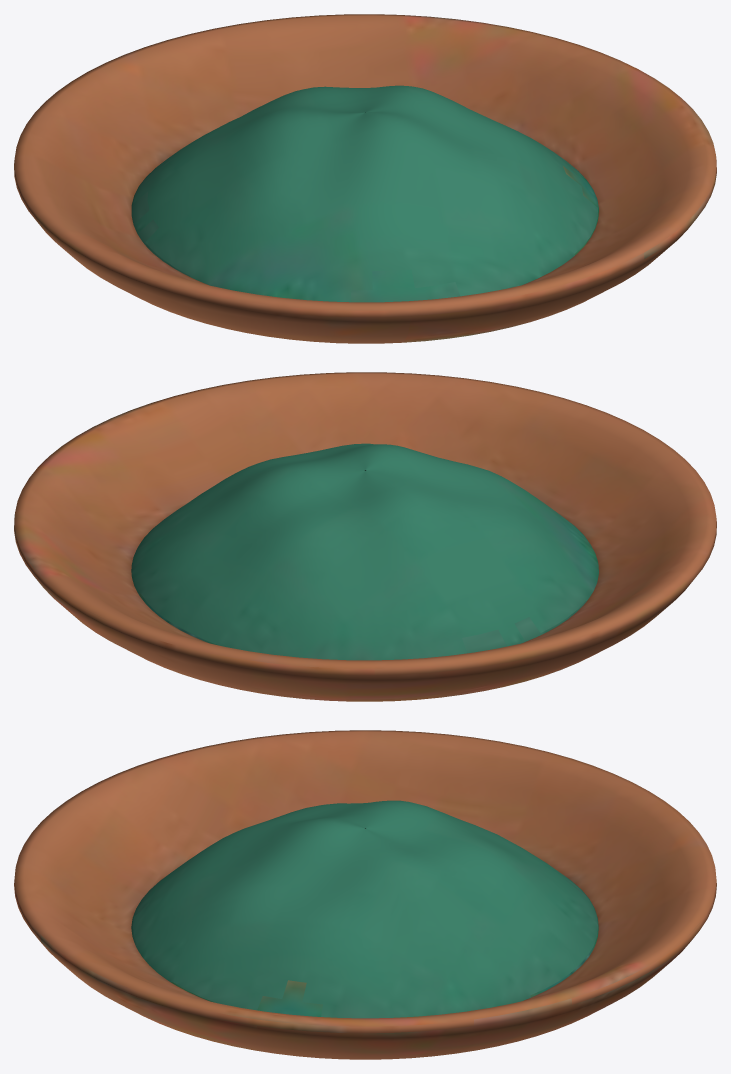
File: verdigris.glb
The picture shows the model from 3 angles, top to bottom: view 1: azimuth 30°, elevation 25°; view 2: azimuth 150°, elevation 25°; view 3: azimuth 270°, elevation 25°; orthographic projection.
Visible parts, largest first — view 1: verdigris; view 2: verdigris; view 3: verdigris.
Boxes of the visible parts, x1,y1,x2,y2 form: verdigris: (14, 14, 716, 343); verdigris: (14, 372, 716, 701); verdigris: (14, 730, 716, 1059).
Bounding box in the file's own units: 0.0901 × 0.0216 × 0.0901.
Materials: 1 (1 with a texture image).
